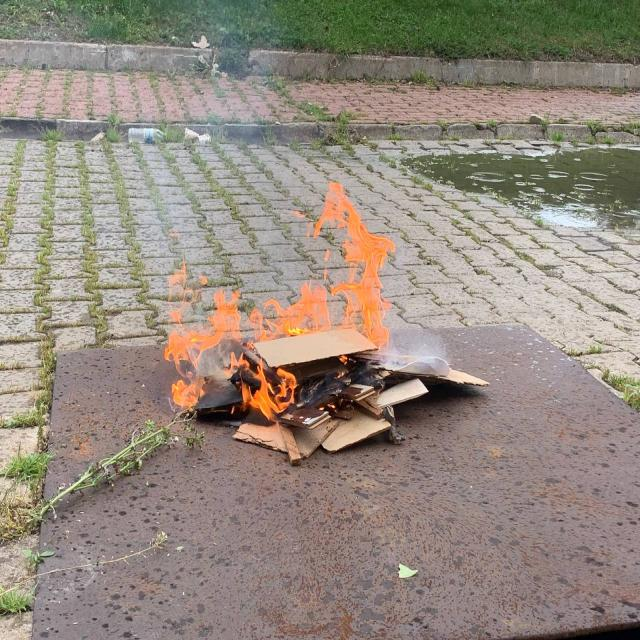fire: (149, 172, 433, 427)
